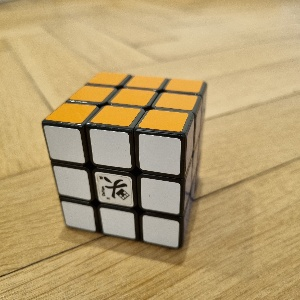cube: (41, 70, 208, 253)
